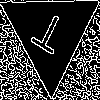T: (25, 8, 69, 64)
